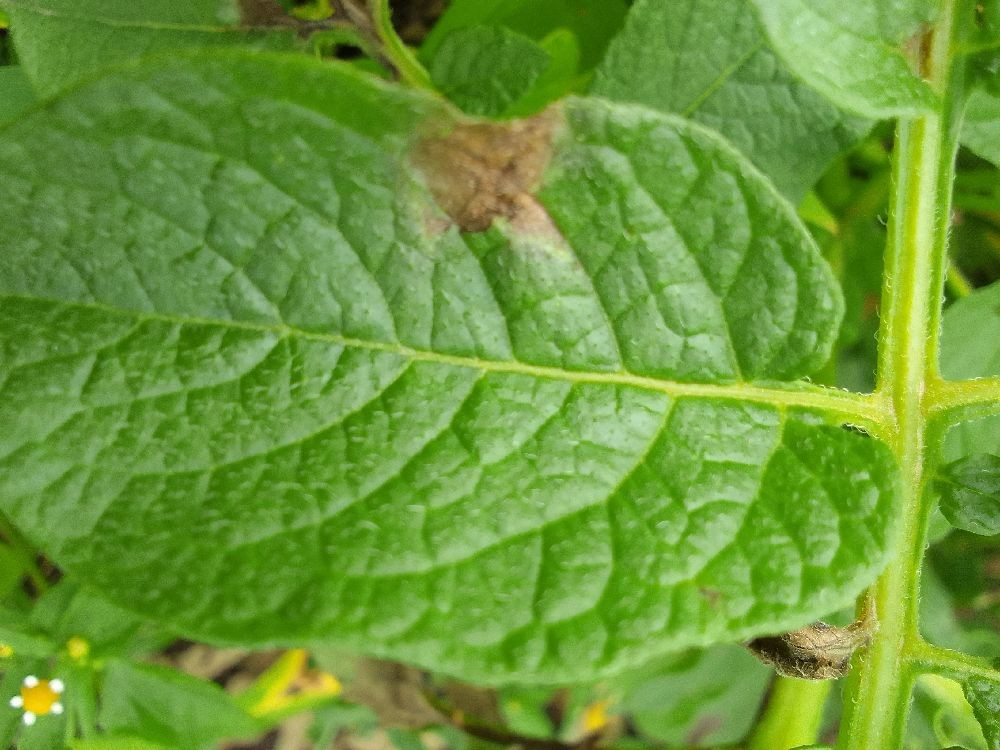late_blight: (313, 624, 679, 750), (396, 90, 579, 255), (201, 0, 424, 104), (134, 621, 300, 707)
